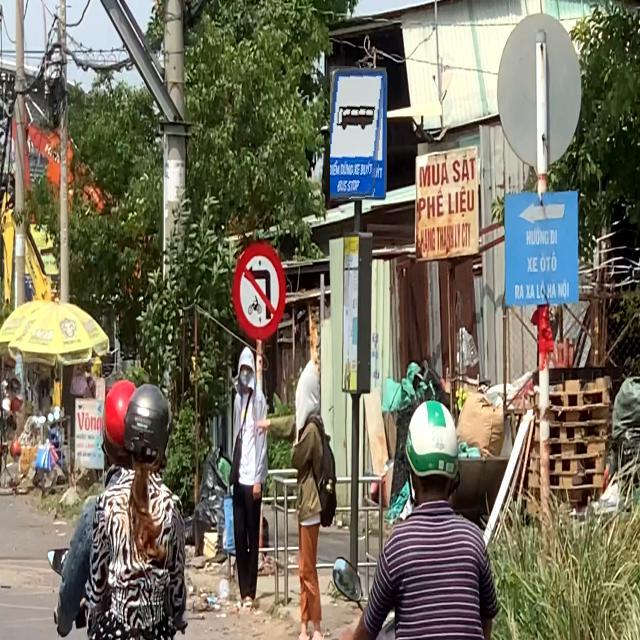R-434: (330, 66, 387, 201)
